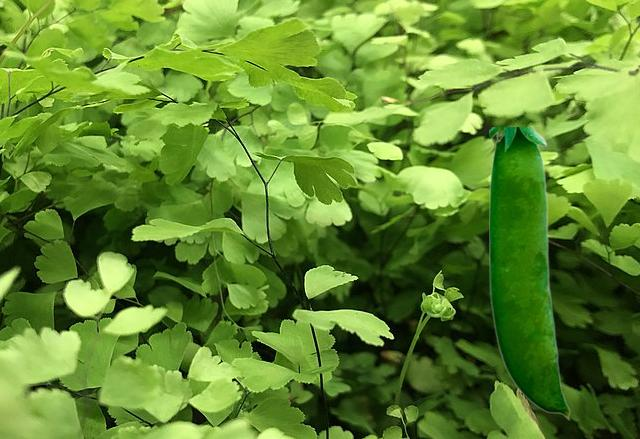pea: (489, 127, 569, 419)
